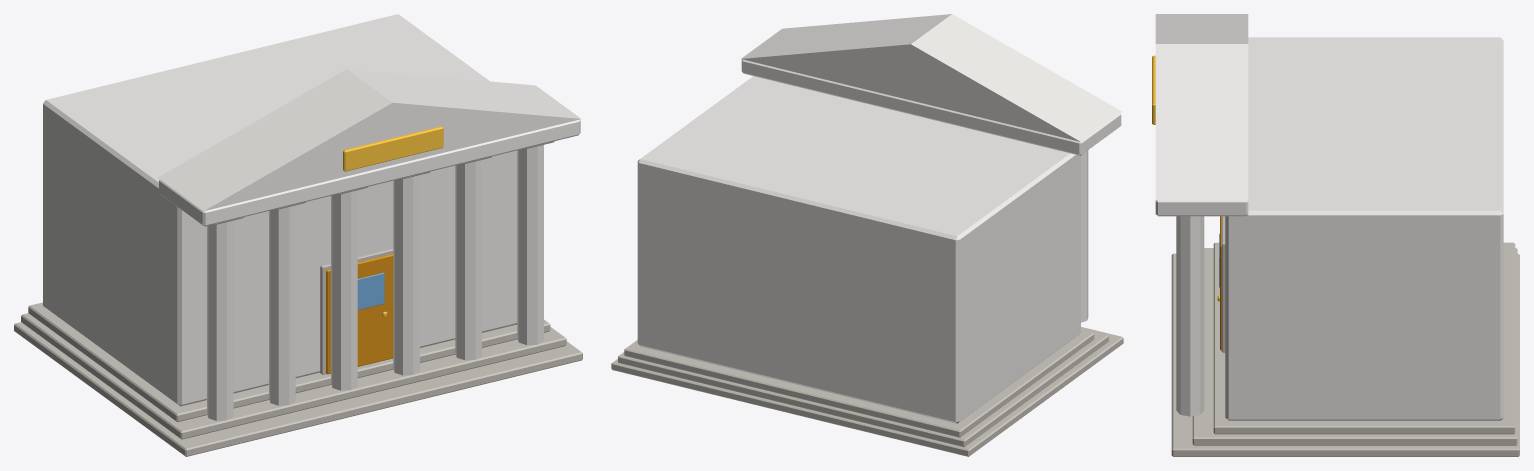
The model's file is Bank.fbx.
The picture shows the model from 3 angles, left to right: view 1: azimuth 30°, elevation 25°; view 2: azimuth 150°, elevation 25°; view 3: azimuth 270°, elevation 25°; orthographic projection. The views are drawn at different scales.
Visible parts, largest first — view 1: Bank; view 2: Bank; view 3: Bank.
Part boxes in pixels (x1,y1,x2,y2): Bank: [14, 14, 582, 456]; Bank: [611, 14, 1123, 456]; Bank: [1152, 14, 1519, 456].
Bounding box in the file's own units: 20 × 15 × 15.85.
1 material, 1 textured.
